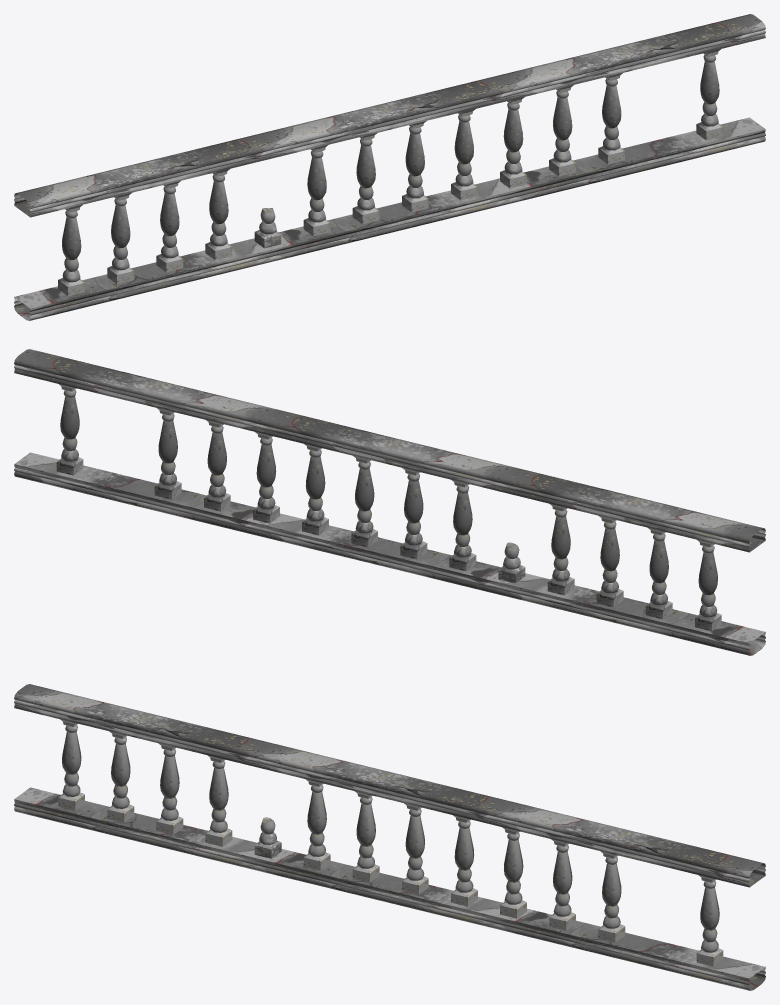
The model's file is Railing_13.fbx.
The picture shows the model from 3 angles, top to bottom: view 1: azimuth 30°, elevation 25°; view 2: azimuth 150°, elevation 25°; view 3: azimuth 330°, elevation 25°; orthographic projection.
Visible parts, largest first — view 1: Railing_13; view 2: Railing_13; view 3: Railing_13.
Boxes of the visible parts, bbox=[...] form: Railing_13: bbox=[14, 14, 765, 320]; Railing_13: bbox=[14, 349, 765, 655]; Railing_13: bbox=[14, 684, 765, 990].
Bounding box in the file's own units: 557 × 86.75 × 21.8.
